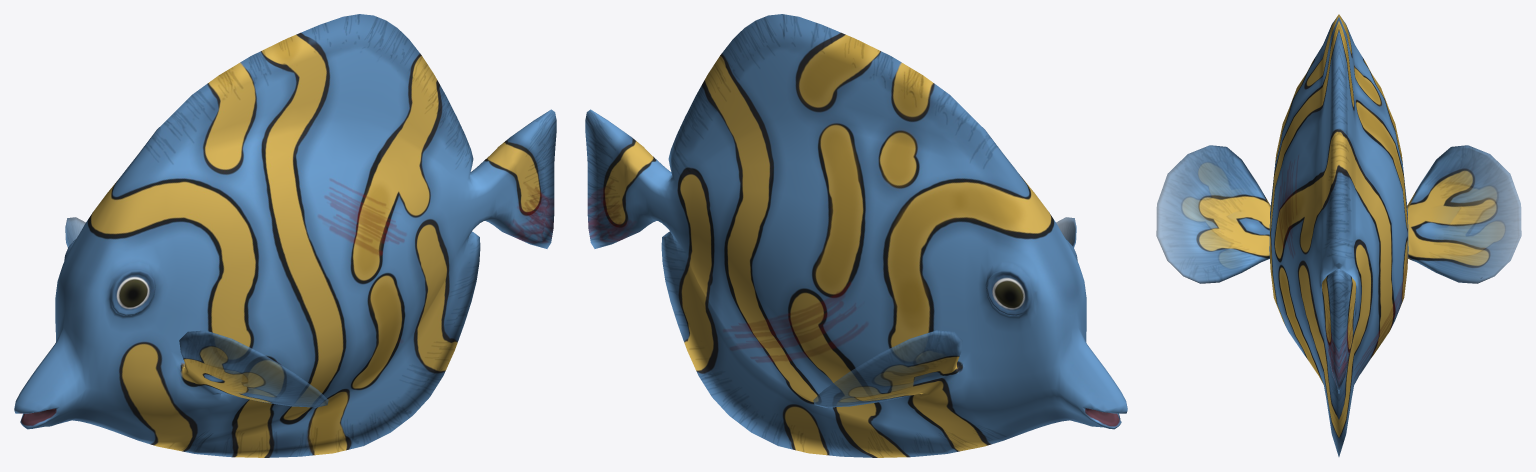
Rendered from realistic_tropical_fish.glb.
3 renders of one model, left to right at view 1: azimuth 30°, elevation 25°; view 2: azimuth 150°, elevation 25°; view 3: azimuth 270°, elevation 25°, orthographic. The views are drawn at different scales.
Visible parts, largest first — view 1: Fish; view 2: Fish; view 3: Fish.
Part boxes in pixels (x1,y1,x2,y2): Fish: (14,14,556,457); Fish: (585,14,1127,457); Fish: (1156,14,1521,456).
Size of the model in its own units: 2215 by 1695 by 1406.
Materials: 1 (1 with a texture image).
